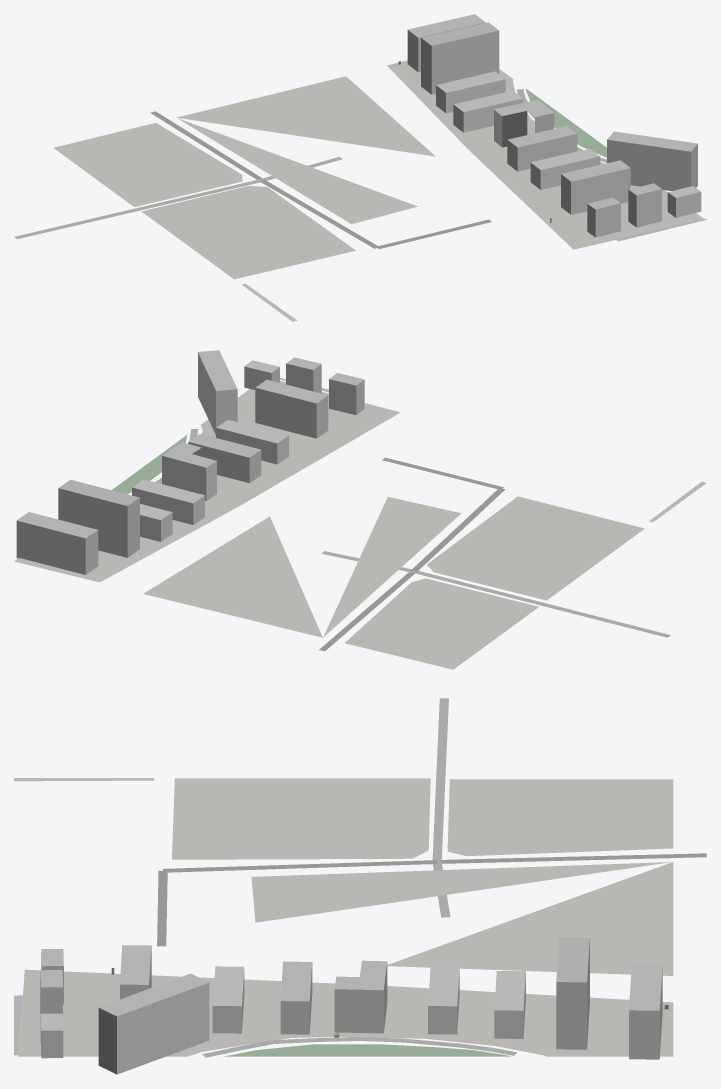
3 views of the same model, one above another, from view 1: azimuth 30°, elevation 25°; view 2: azimuth 150°, elevation 25°; view 3: azimuth 270°, elevation 25° (orthographic). The views are drawn at different scales.
Bounding box in the file's own units: 680 × 57.96 × 526.
